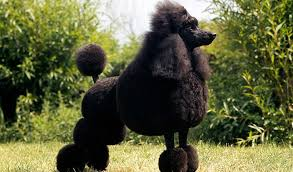Bulldog: (49, 1, 222, 172)
